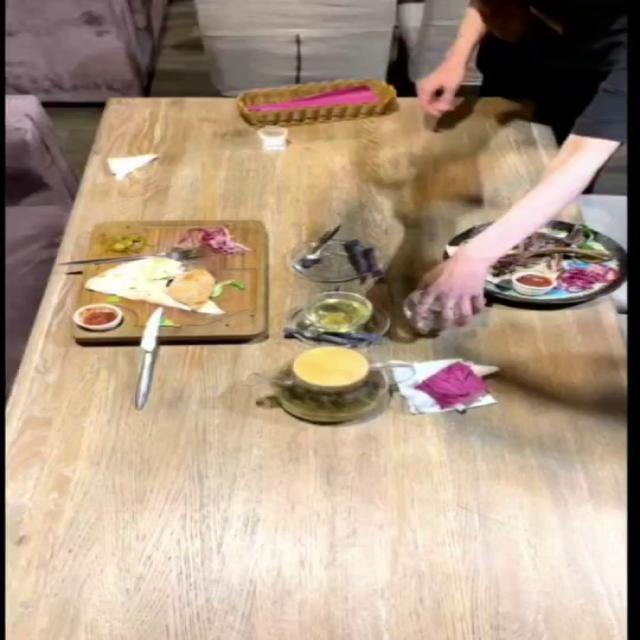meat: (73, 218, 276, 348), (424, 222, 640, 298)
tea: (237, 348, 443, 431)
